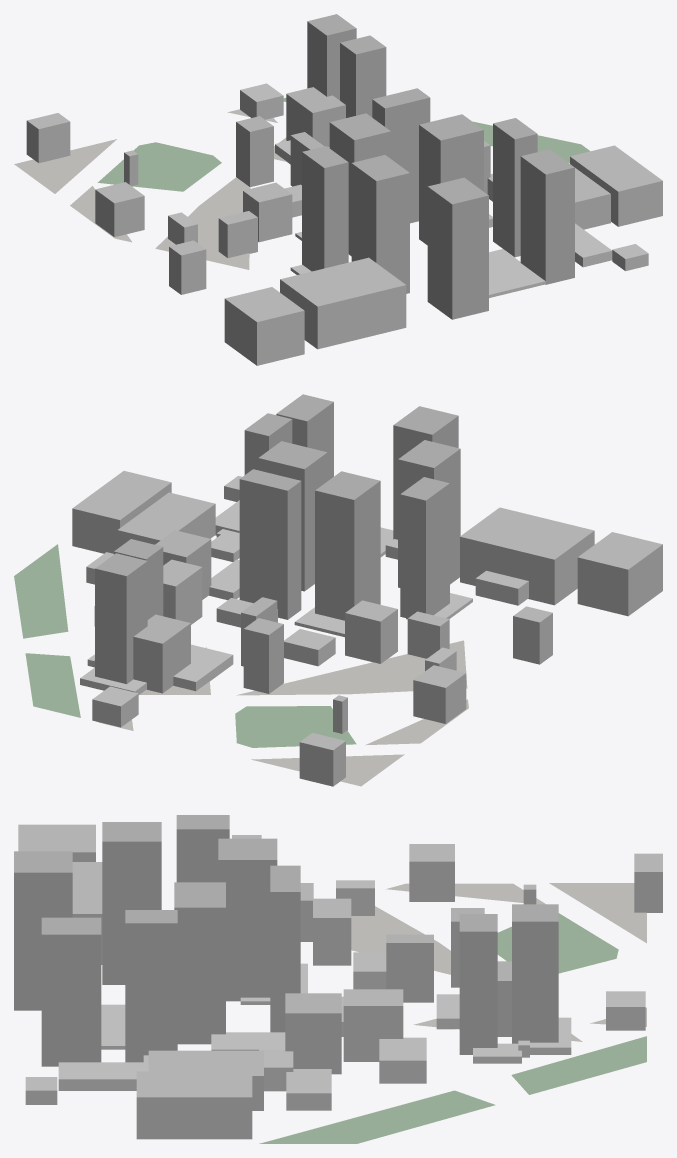
The model's file is 136_88_mid.glb.
The picture shows the model from 3 angles, top to bottom: view 1: azimuth 30°, elevation 25°; view 2: azimuth 150°, elevation 25°; view 3: azimuth 270°, elevation 25°; orthographic projection. The views are drawn at different scales.
Size of the model in its own units: 522 by 132 by 527.
